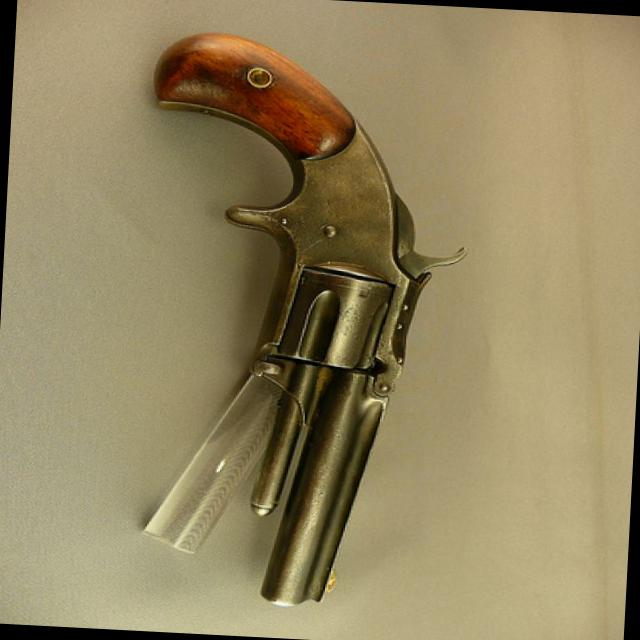handgun: (127, 28, 482, 614)
